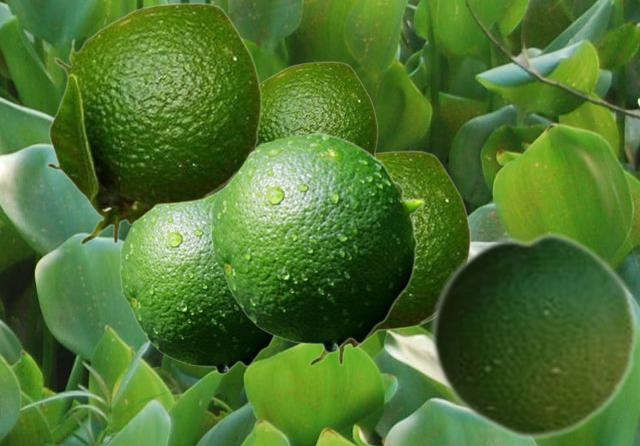dalandan: (45, 2, 261, 245), (210, 132, 424, 353), (429, 229, 638, 441), (308, 150, 470, 366), (119, 195, 275, 374), (258, 61, 377, 156)
